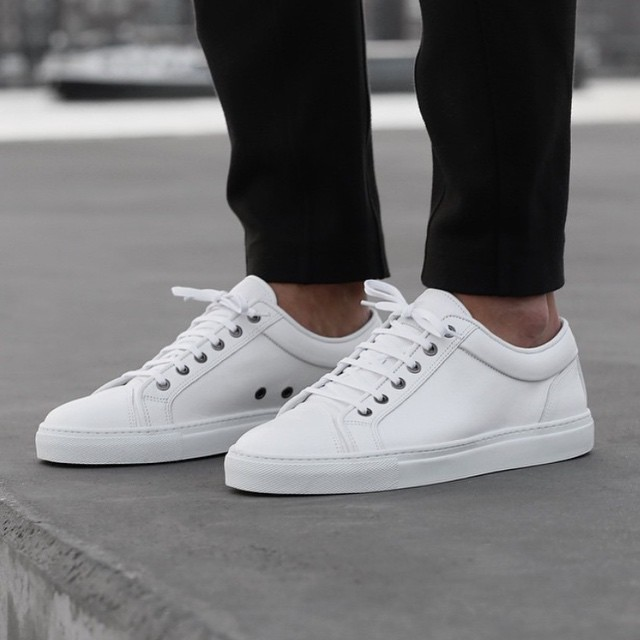sneaker: (209, 265, 624, 509), (17, 262, 403, 486)
